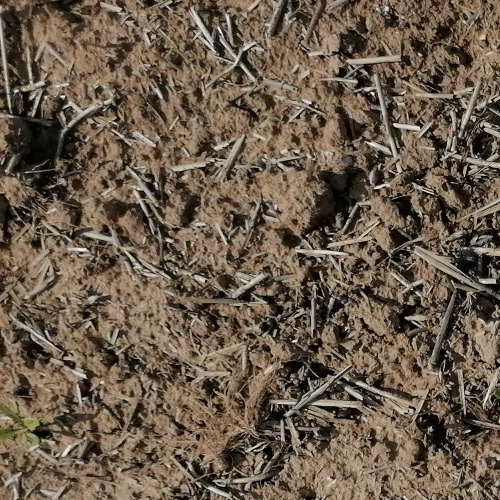beet: (0, 403, 45, 448)
